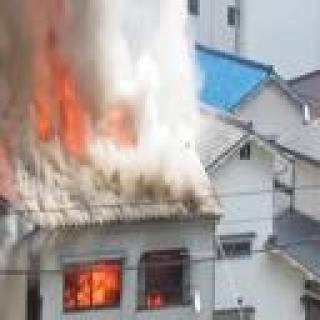fire: (22, 75, 134, 152), (70, 266, 168, 313), (0, 220, 46, 320)
